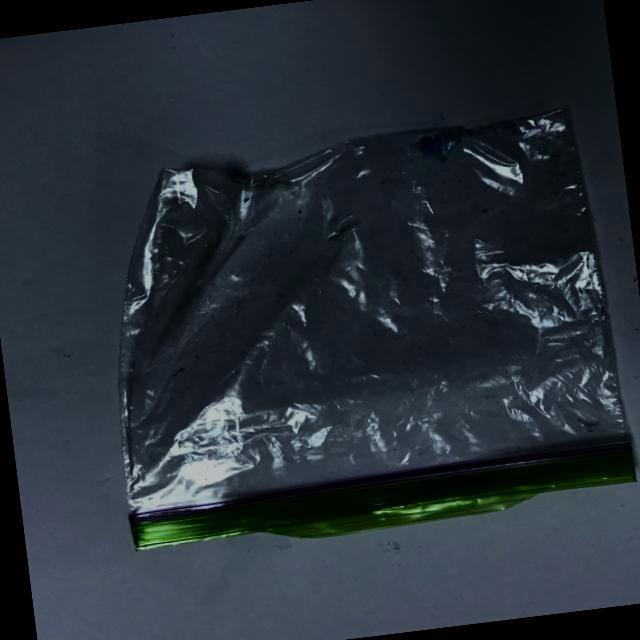plastic: (77, 77, 640, 566)
